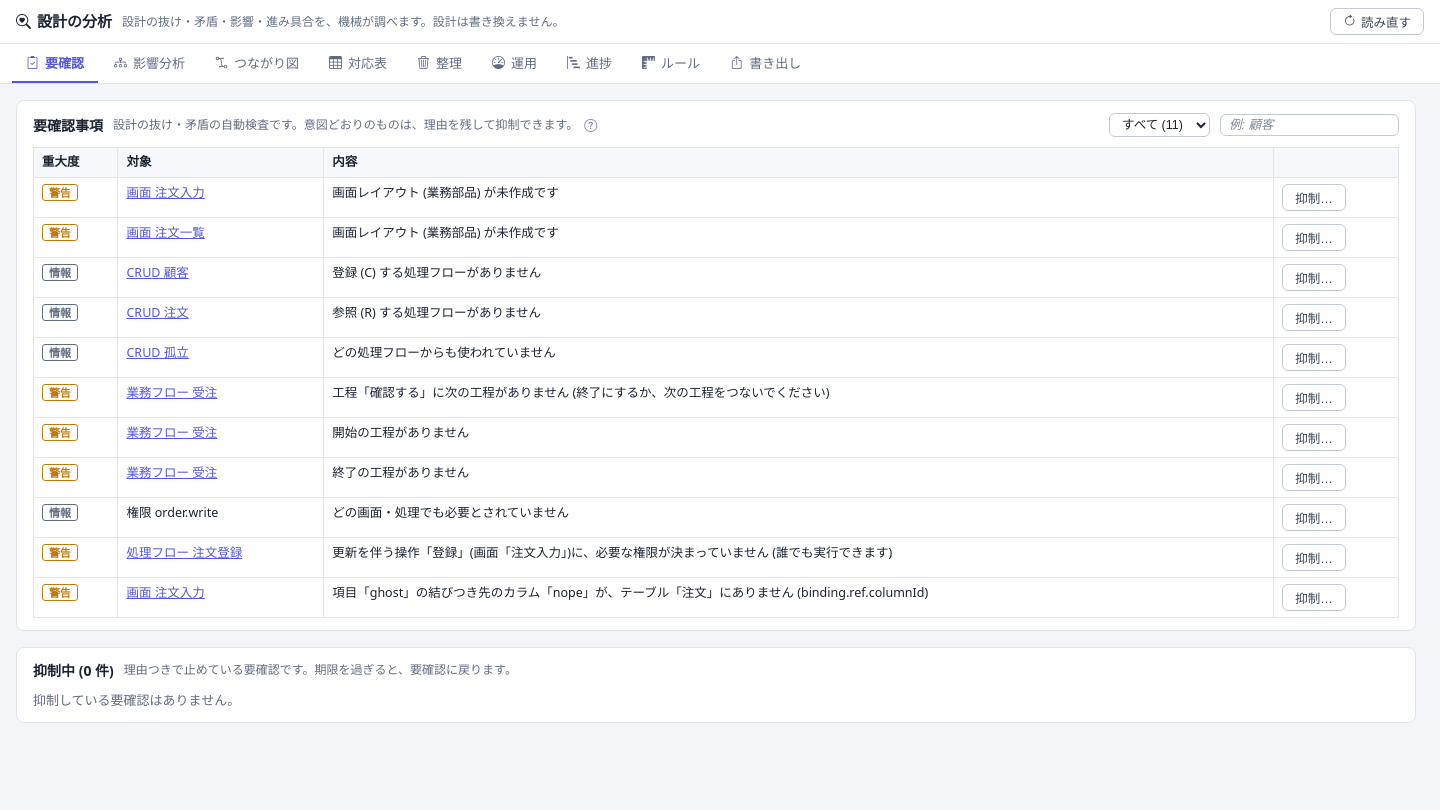
Test case: 対応表 › 権限の仕組みがあれば、更新操作の警告と、役割の列が出る
The image size is (1440, 810).
Click the tab "対応表" at (358, 64), box [315,44,401,83]
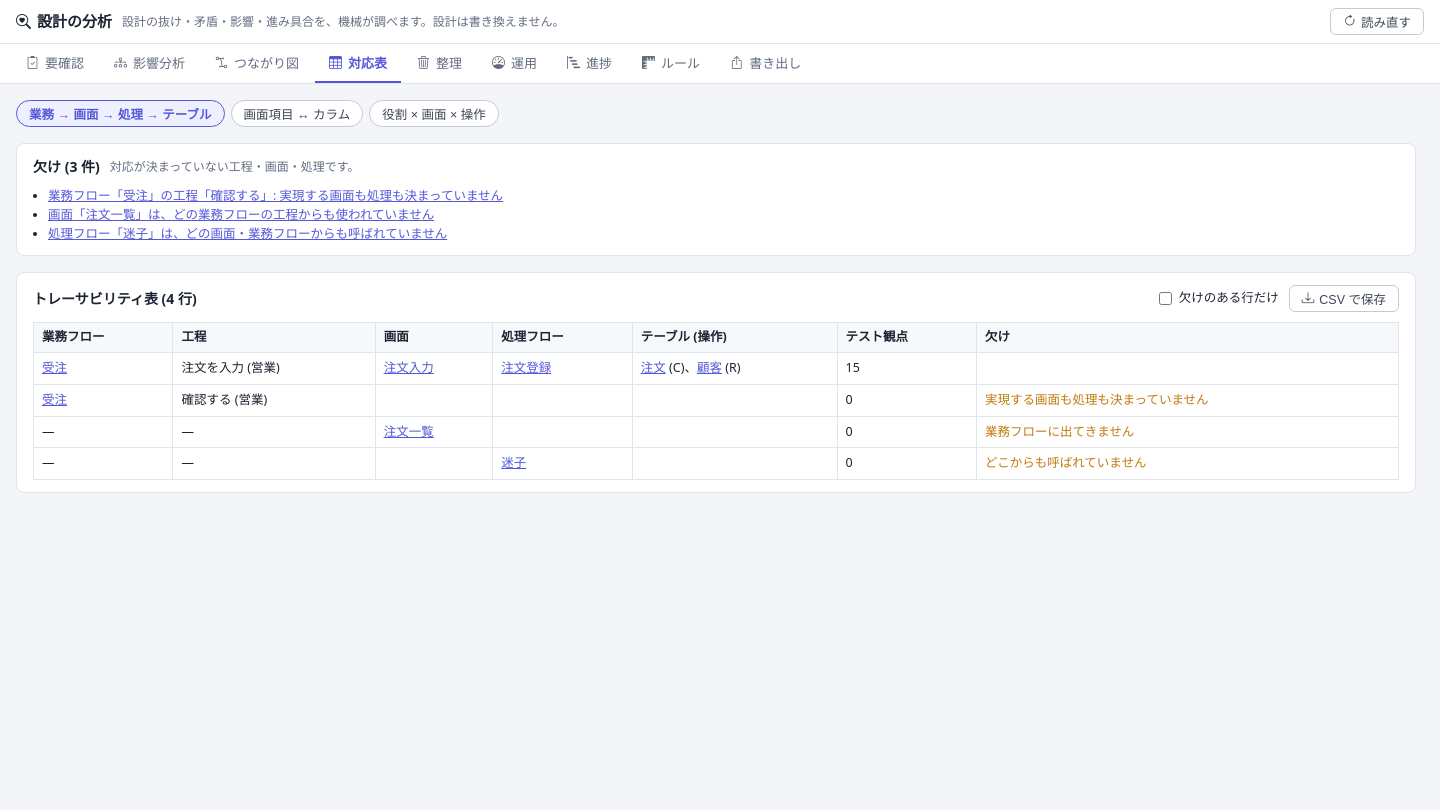
Click the button "役割 × 画面 × 操作" at (434, 114), box [369,100,499,127]
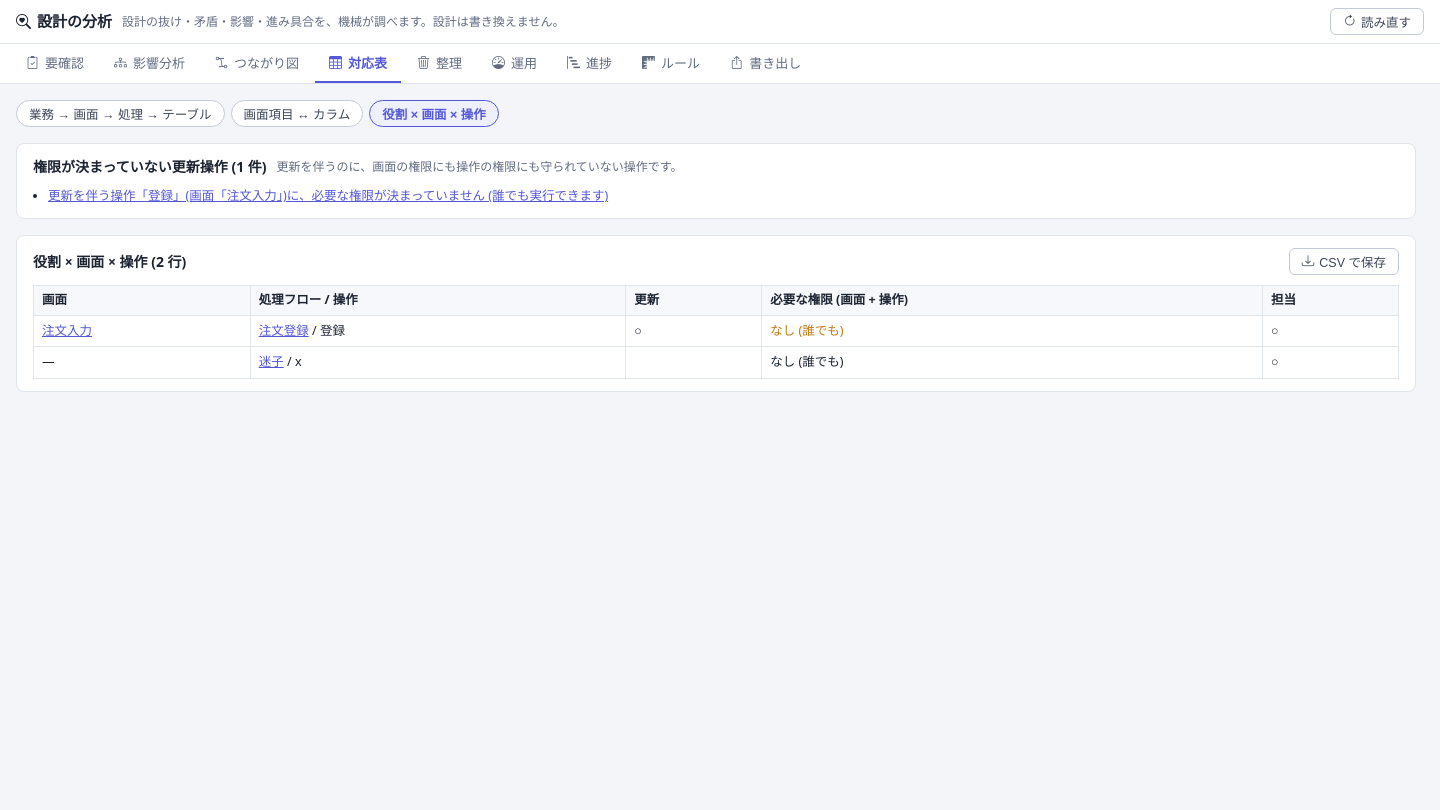
Result: the element with test id "an-ops-issues" shows "誰でも実行できます" at [48,187,608,206]
Result: the column heading "担当" is shown at [1263,285,1398,315]
